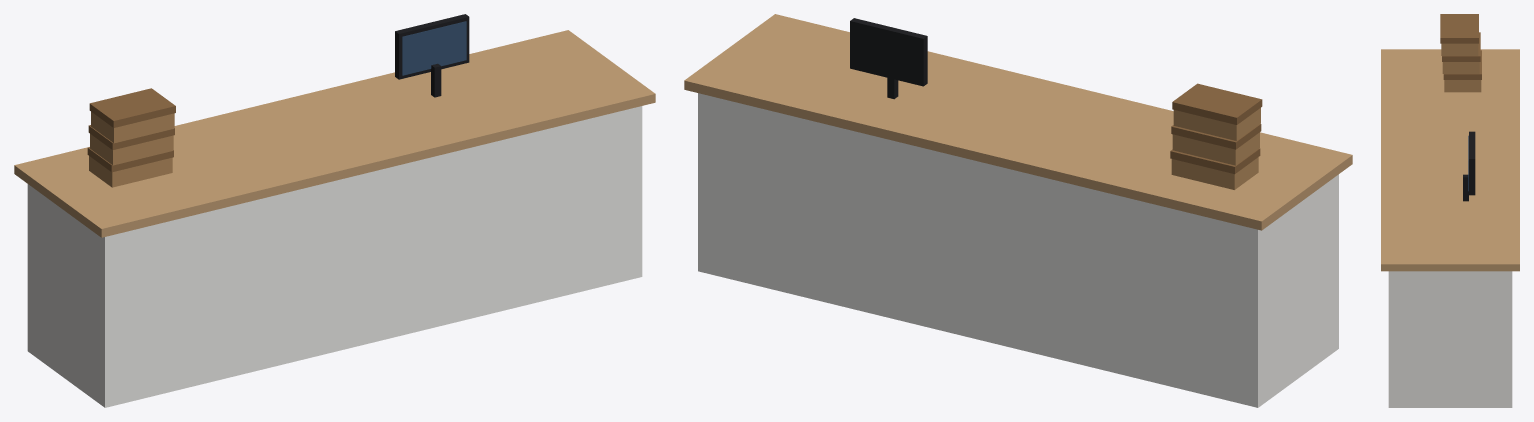
The model's file is counter.glb.
3 views of the same model, side by side, from view 1: azimuth 30°, elevation 25°; view 2: azimuth 150°, elevation 25°; view 3: azimuth 270°, elevation 25° (orthographic). The views are drawn at different scales.
Visible parts, largest first — view 1: counter; view 2: counter; view 3: counter.
Part boxes in pixels (x1,y1,x2,y2): counter: (14, 14, 655, 407); counter: (684, 14, 1352, 407); counter: (1381, 14, 1519, 407).
Bounding box in the file's own units: 3.3 × 1.44 × 0.9.
